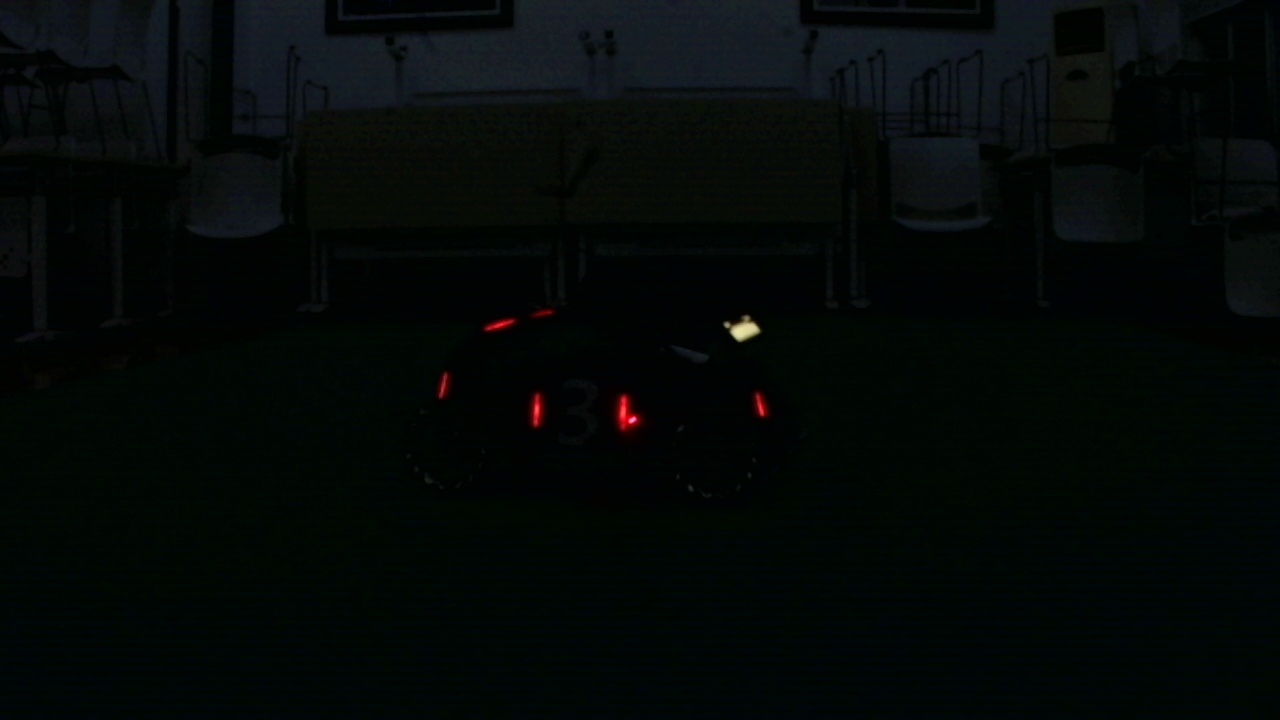lamp: (618, 392, 631, 435), (530, 388, 541, 429), (437, 370, 450, 400), (755, 384, 765, 420)
pair1: (530, 389, 629, 431)
